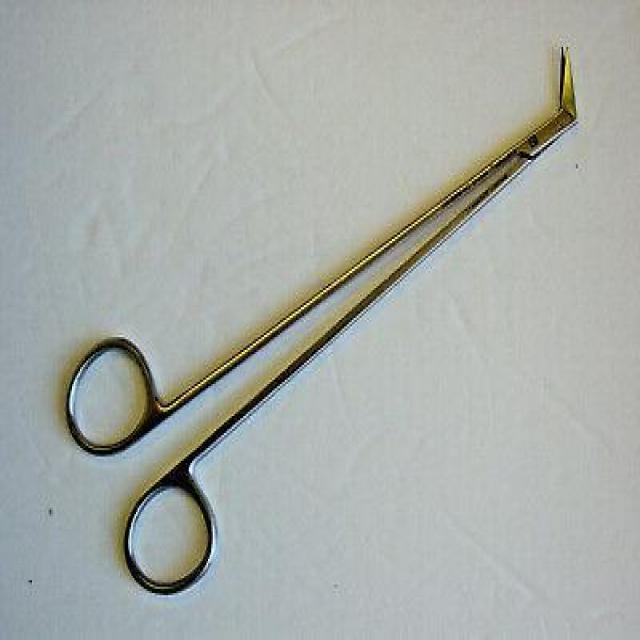Potts: (58, 36, 580, 606)
